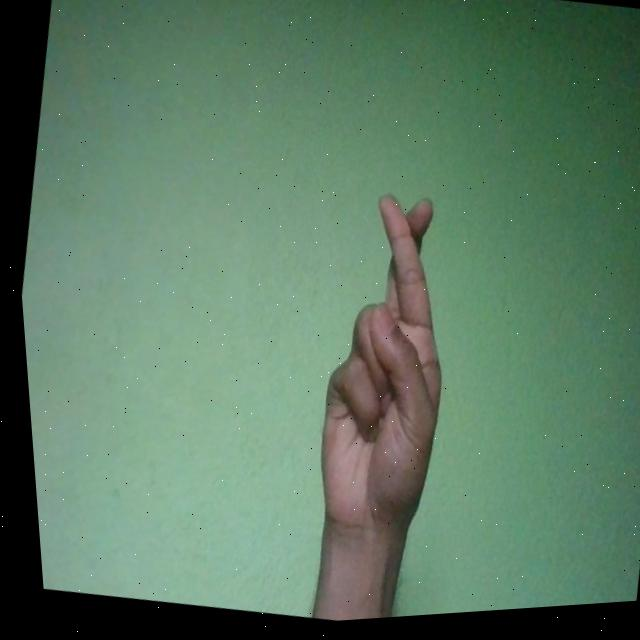Good Luck: (283, 188, 476, 556)
